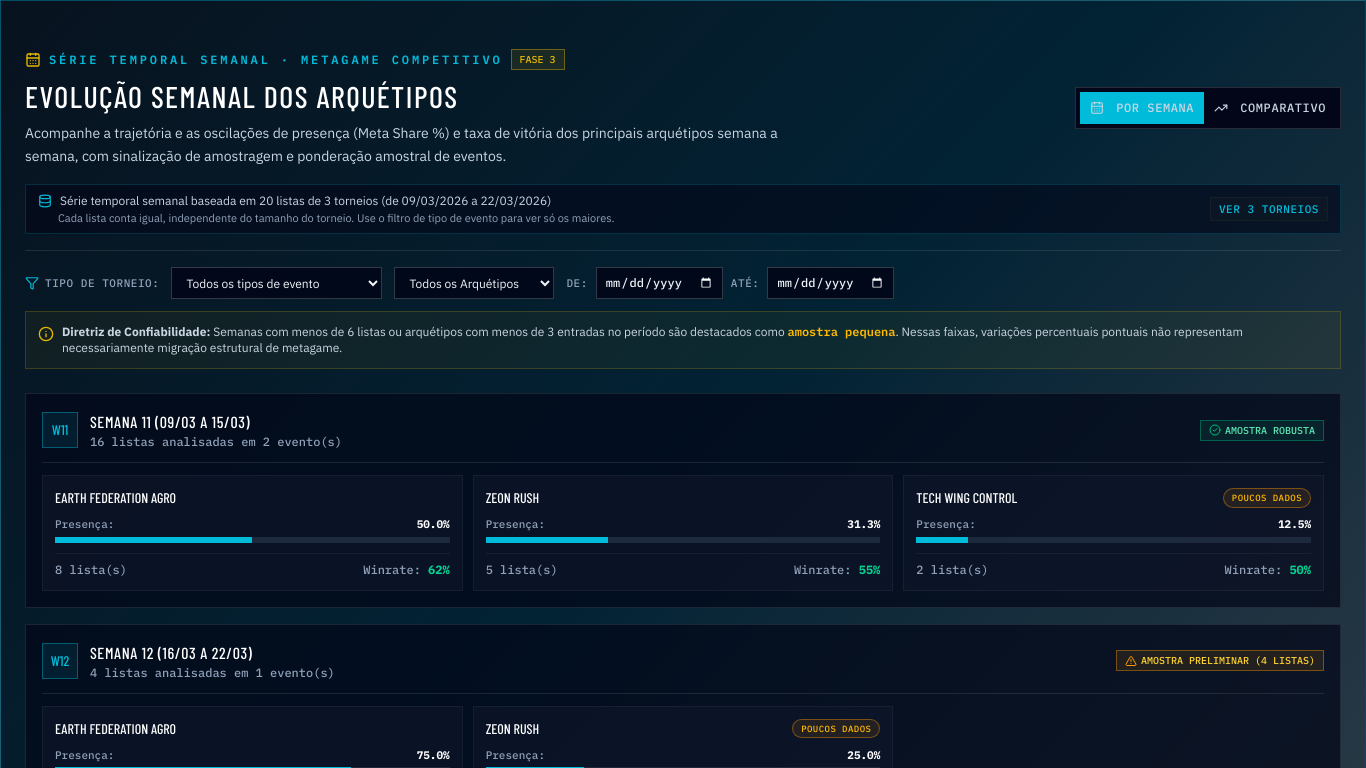
Scenario: WeeklyTrendsPanel › permite alternar entre visualização por semana e modo comparativo em tabela
Check: the heading "Semana 11 (09/03 a 15/03)" is shown, box [90, 412, 250, 431]
// Clica no botão "Comparativo"
Click the button "Comparativo".
click(1270, 108)  # box [1204, 92, 1336, 124]
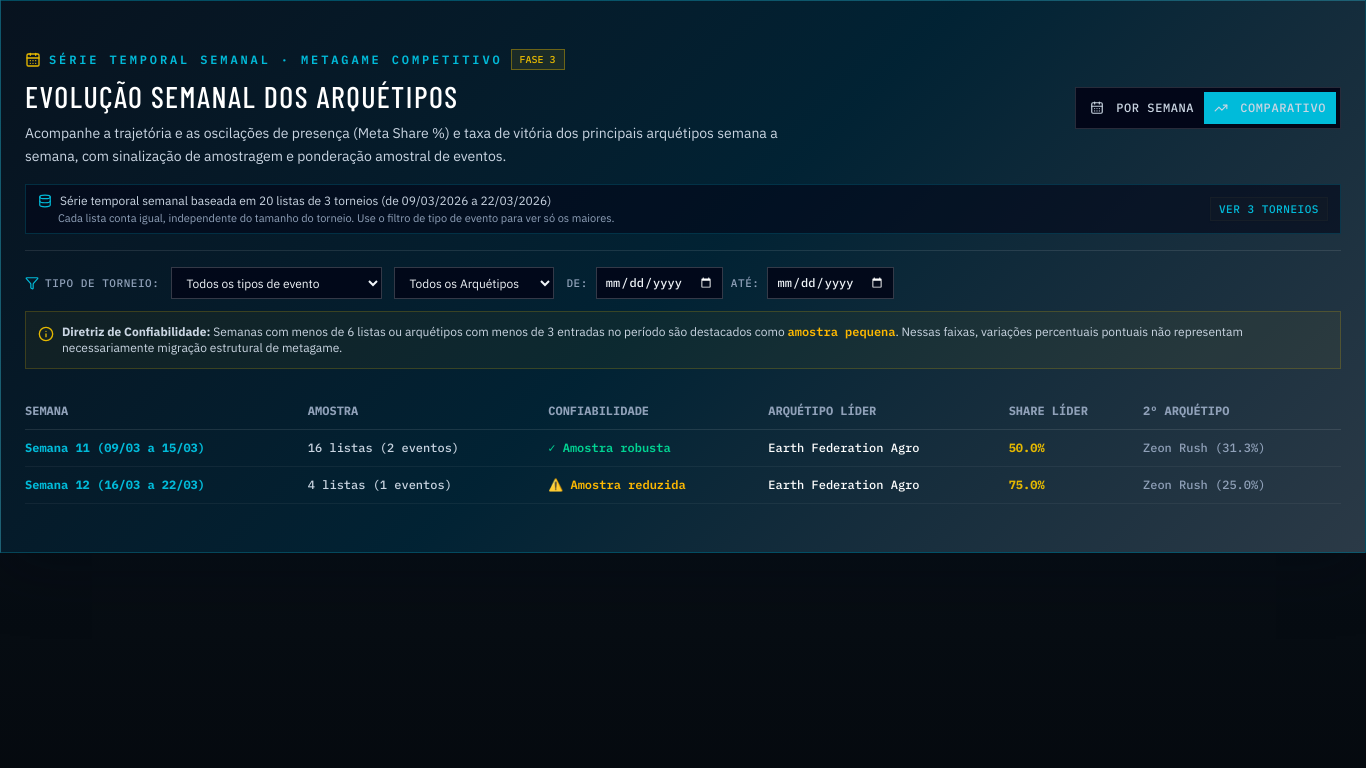
Check: the table is shown, box [25, 393, 1341, 504]
Check: the column heading "Arquétipo Líder" is shown, box [768, 393, 1009, 430]
Check: the text "⚠️ Amostra reduzida" is shown, box [548, 477, 686, 492]
// Volta para o modo Por Semana
Click the button "Por Semana".
click(1142, 108)  # box [1080, 92, 1204, 124]
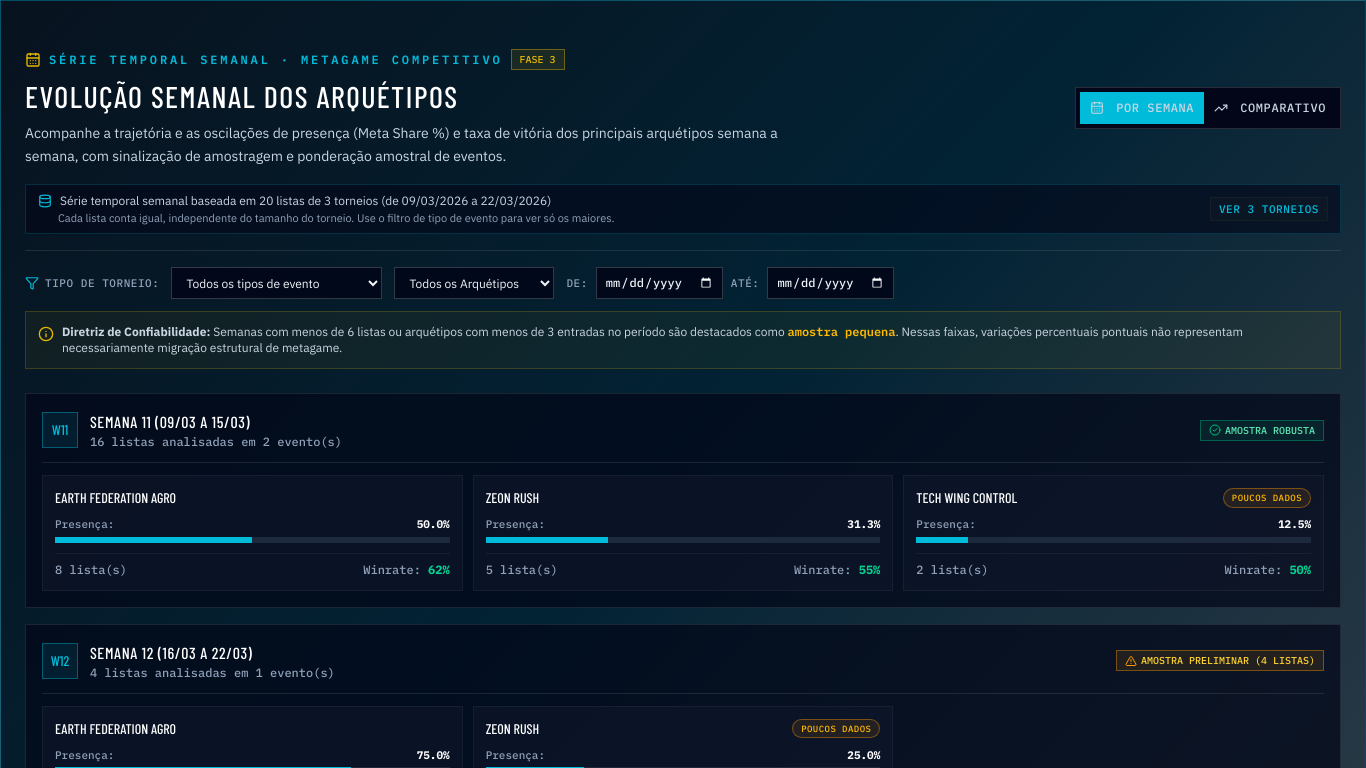
Check: the table is gone
